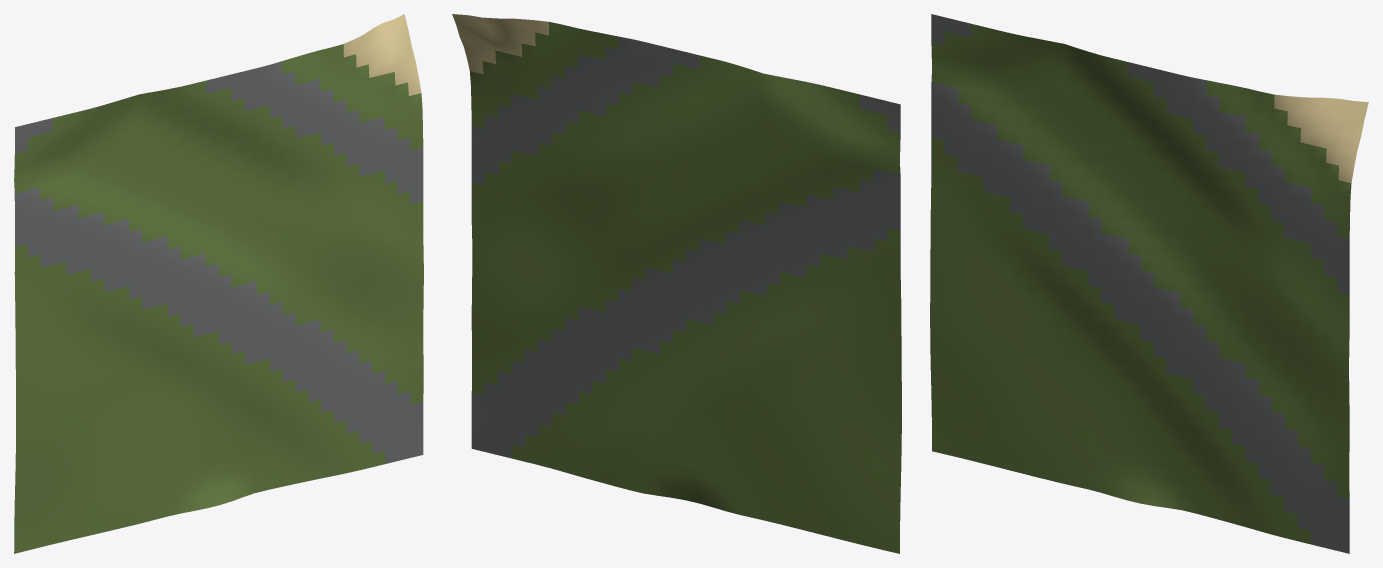
The model's file is island_terrain_15_09.obj.
The picture shows the model from 3 angles, left to right: view 1: azimuth 30°, elevation 25°; view 2: azimuth 150°, elevation 25°; view 3: azimuth 330°, elevation 25°; orthographic projection. The views are drawn at different scales.
Parts seen in each view (by area): view 1: island_terrain_15_09; view 2: island_terrain_15_09; view 3: island_terrain_15_09.
Boxes of the visible parts, <box> form: island_terrain_15_09: <box>14,14,423,553</box>; island_terrain_15_09: <box>452,14,901,553</box>; island_terrain_15_09: <box>930,14,1368,553</box>.
Bounding box in the file's own units: 256 × 256 × 21.68.
